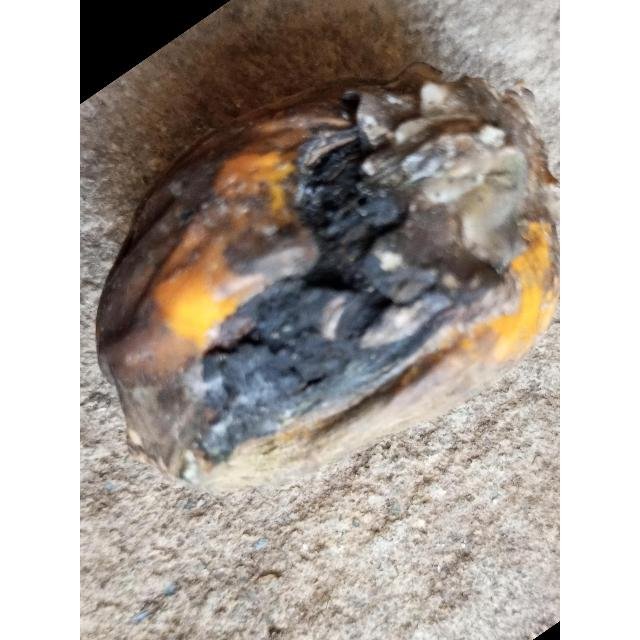damaged: (97, 63, 560, 489)
